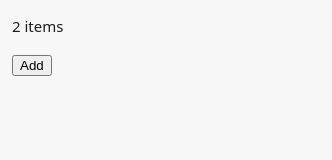
Scenario: useState lazy initializer › runs the initializer once, not on every render
Check: the text "2 items" is shown, box [12, 16, 64, 36]
Click the button "Add".
click(32, 66)  # box [12, 55, 52, 76]
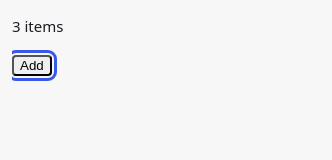
Click the button "Add".
click(32, 66)  # box [12, 55, 52, 76]
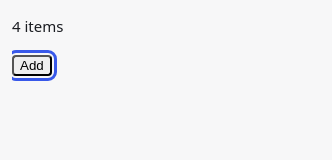
Check: the text "4 items" is shown, box [12, 16, 64, 36]
